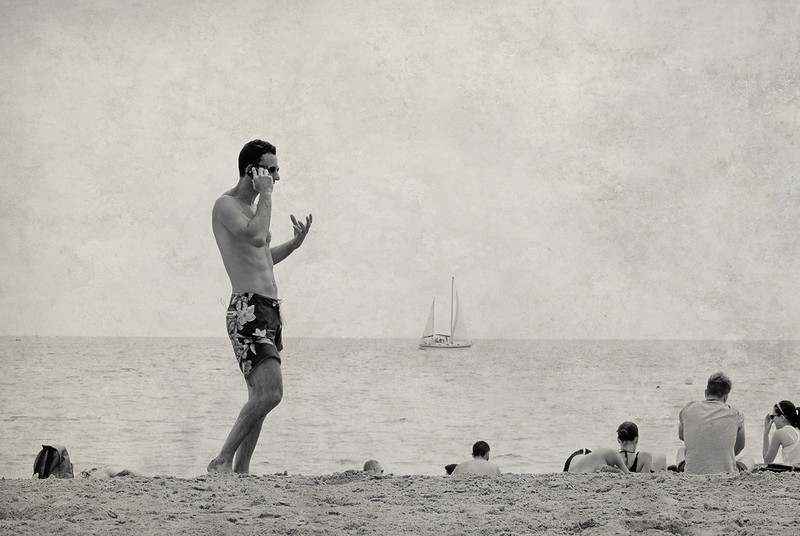phone: (246, 165, 269, 190)
